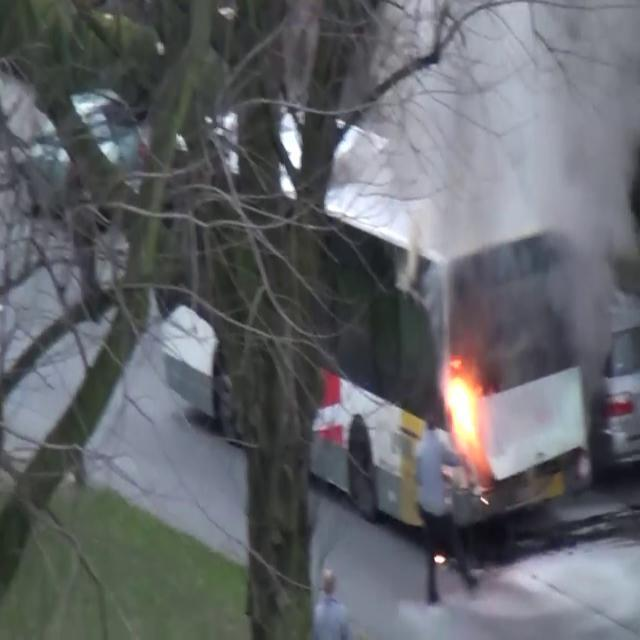Fire: (438, 348, 489, 461)
Smoke: (410, 2, 640, 394)
